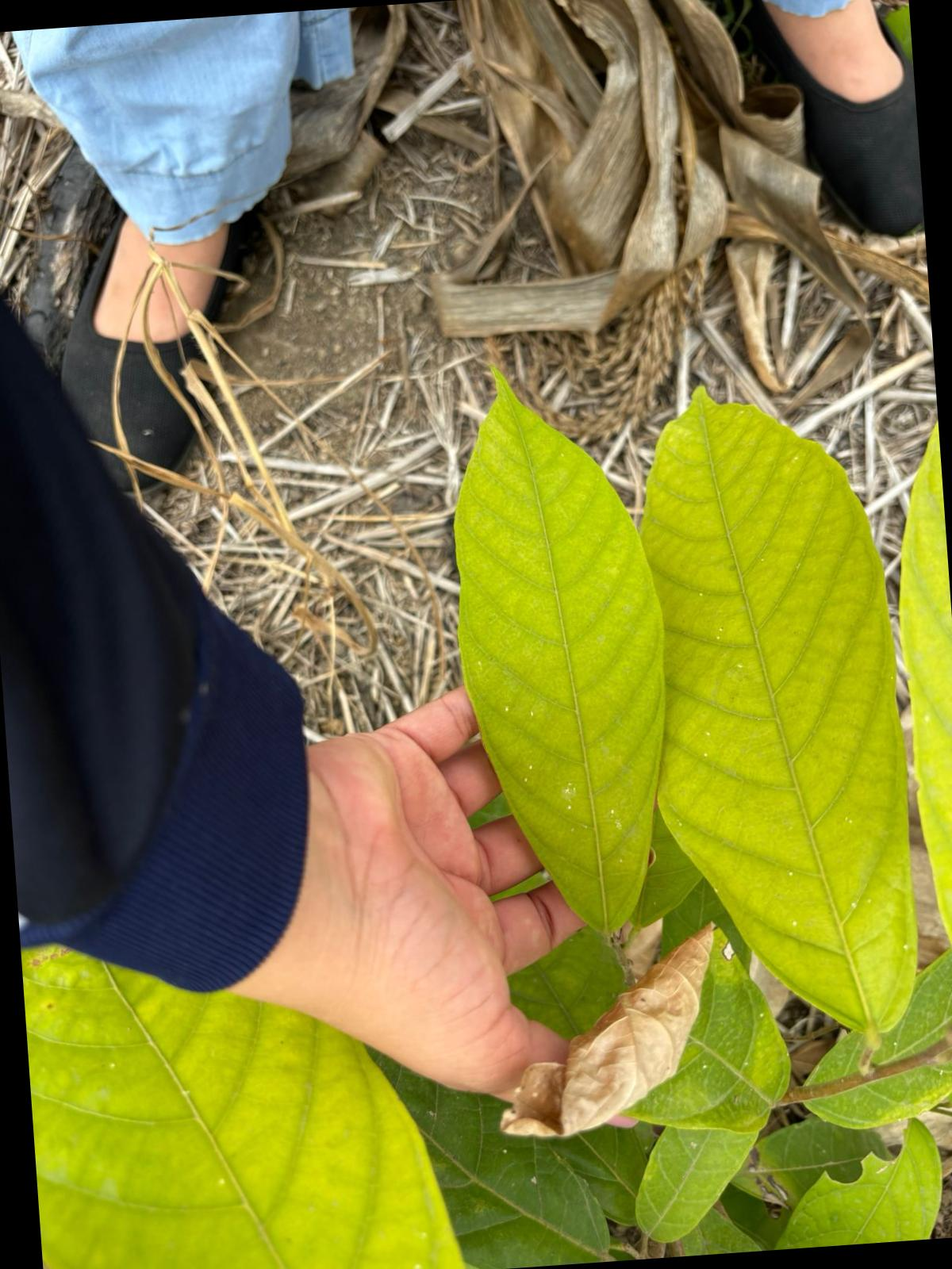Nitrogeno: (642, 396, 916, 1039), (456, 372, 666, 930)
